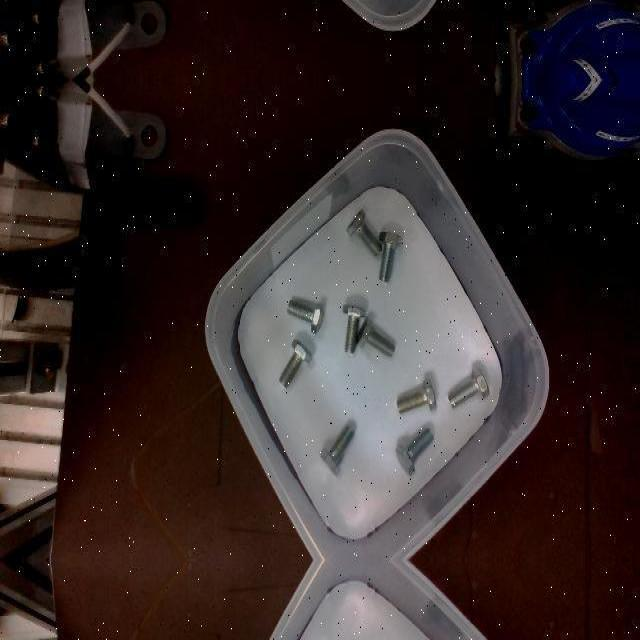screw: (395, 426, 434, 476), (319, 425, 355, 475), (447, 365, 489, 407), (346, 208, 382, 256), (278, 339, 312, 387), (355, 318, 395, 358), (396, 378, 436, 414), (286, 299, 324, 333), (378, 231, 403, 281), (342, 303, 366, 353)
